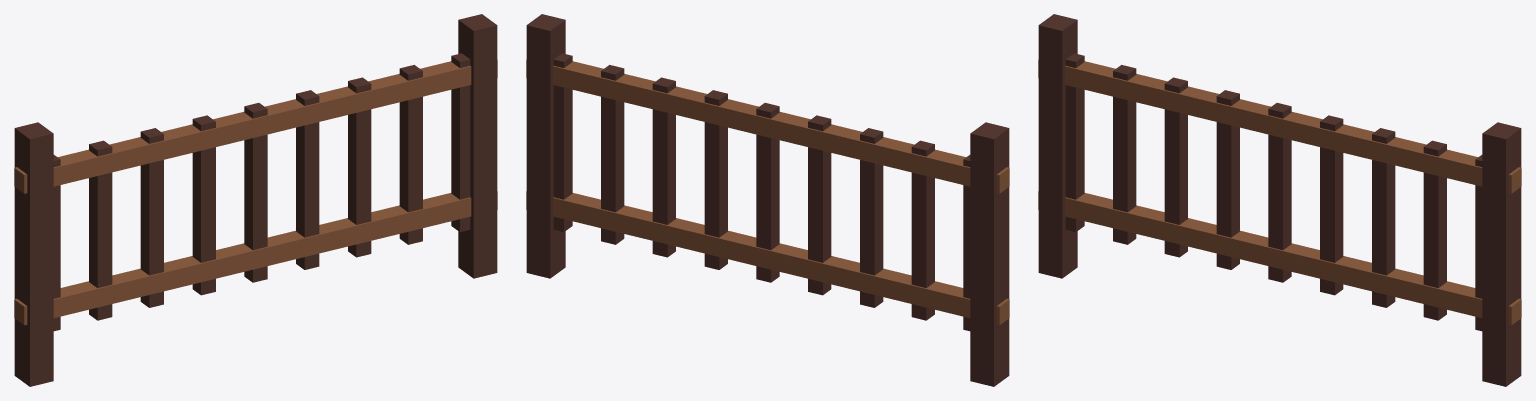
File: fence.glb
3 renders of one model, left to right at view 1: azimuth 30°, elevation 25°; view 2: azimuth 150°, elevation 25°; view 3: azimuth 330°, elevation 25°, orthographic.
Visible parts, largest first — view 1: fence; view 2: fence; view 3: fence.
Boxes of the visible parts, bbox=[...] form: fence: bbox=[14, 14, 497, 386]; fence: bbox=[526, 14, 1009, 386]; fence: bbox=[1038, 14, 1521, 386].
Bounding box in the file's own units: 3.2 × 1.6 × 0.18.
